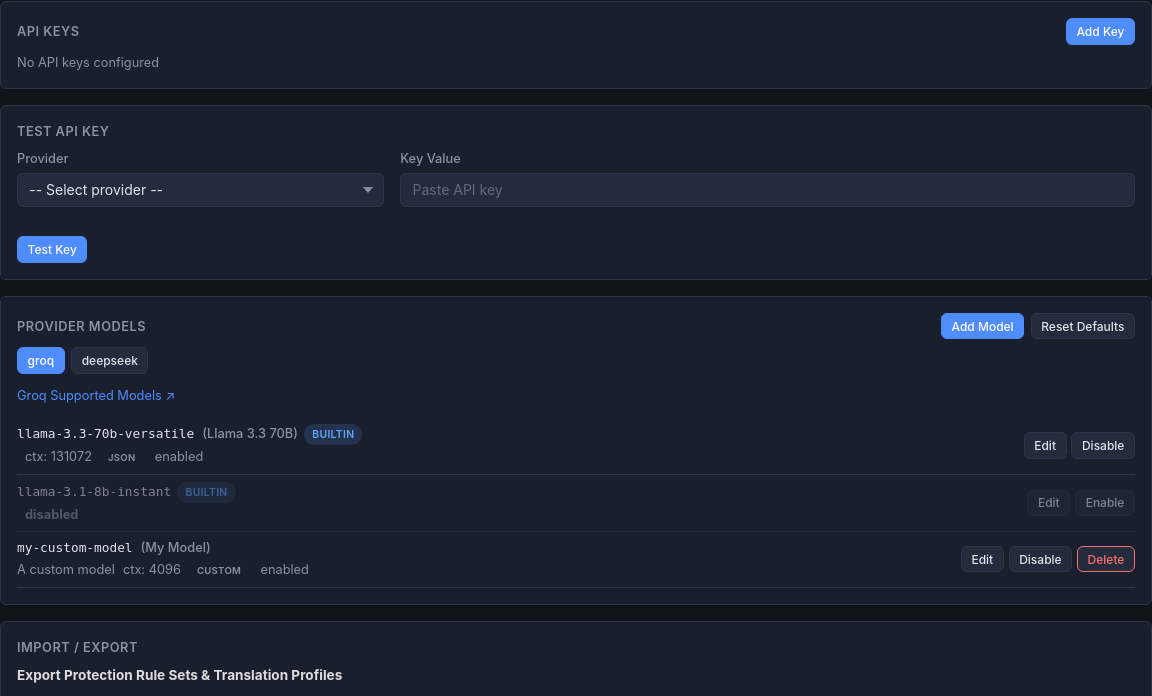
Test case: Settings - Provider Models section › switches provider when provider tab is clicked
The image size is (1152, 696).
(page scrolled)
Check: the text "my-custom-model" is shown, box [17,540,133,555]
Click the button "deepseek".
click(110, 361)  # box [71,348,148,374]
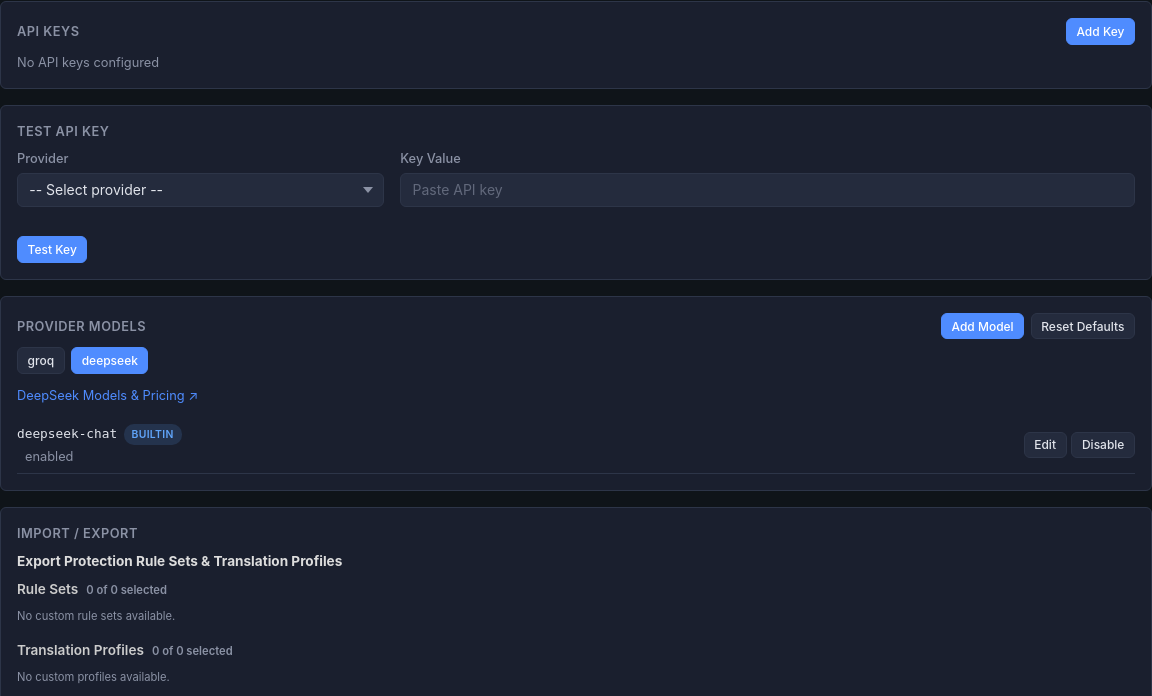
Check: the text "deepseek-chat" is shown, box [17,426,117,441]
